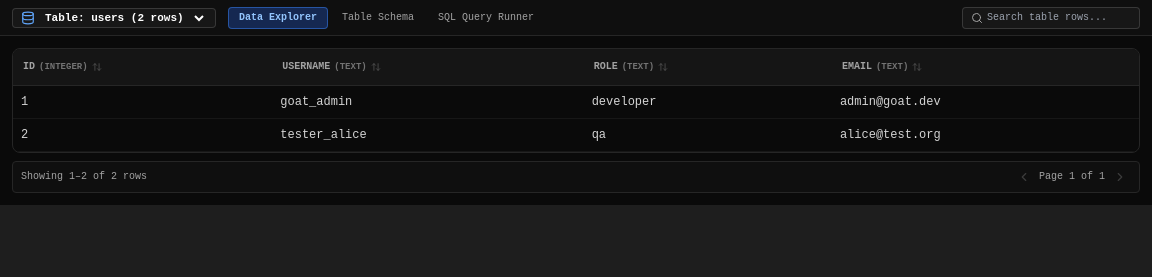
Milestone 4: Multi-Lane Debugger & Storage Suite › 5. SqliteViewer Component › displays table schema definitions
This screenshot has width=1152, height=277.
Click the button "Table Schema": (378,18) [332,8,424,28]
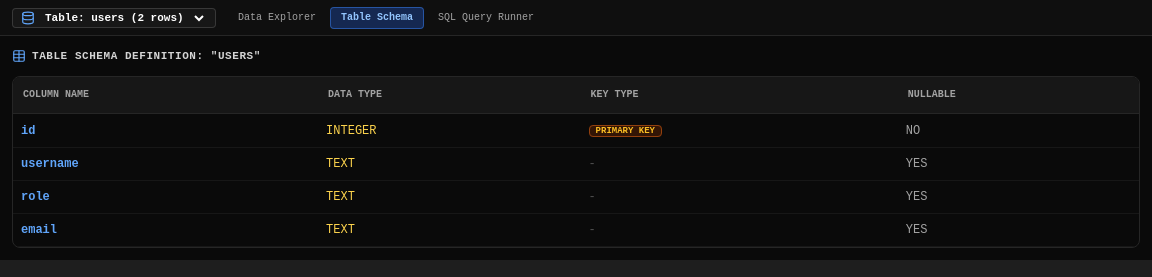
Check: the text "username" is shown, box [13,148,318,180]
Check: the text "PRIMARY KEY" is shown, box [589,125,662,137]
